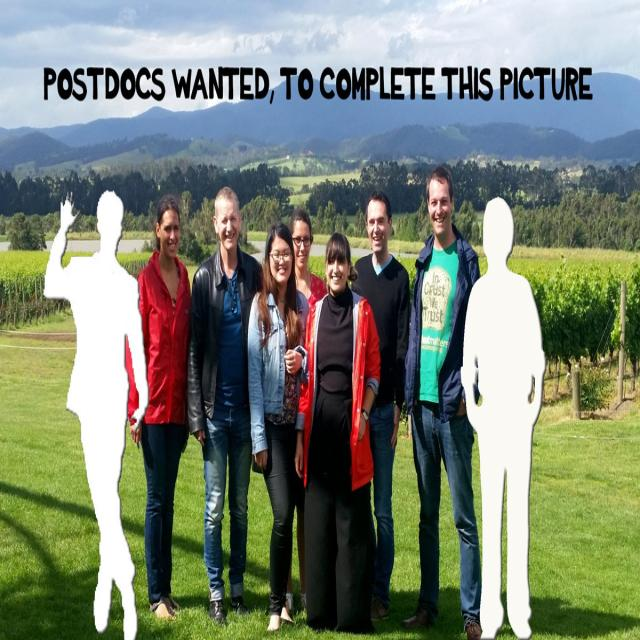body: (40, 182, 152, 639), (458, 193, 548, 639), (404, 162, 482, 640), (293, 230, 382, 634), (186, 185, 264, 629), (121, 193, 194, 624), (246, 221, 312, 636), (352, 189, 411, 624), (284, 207, 329, 617)
